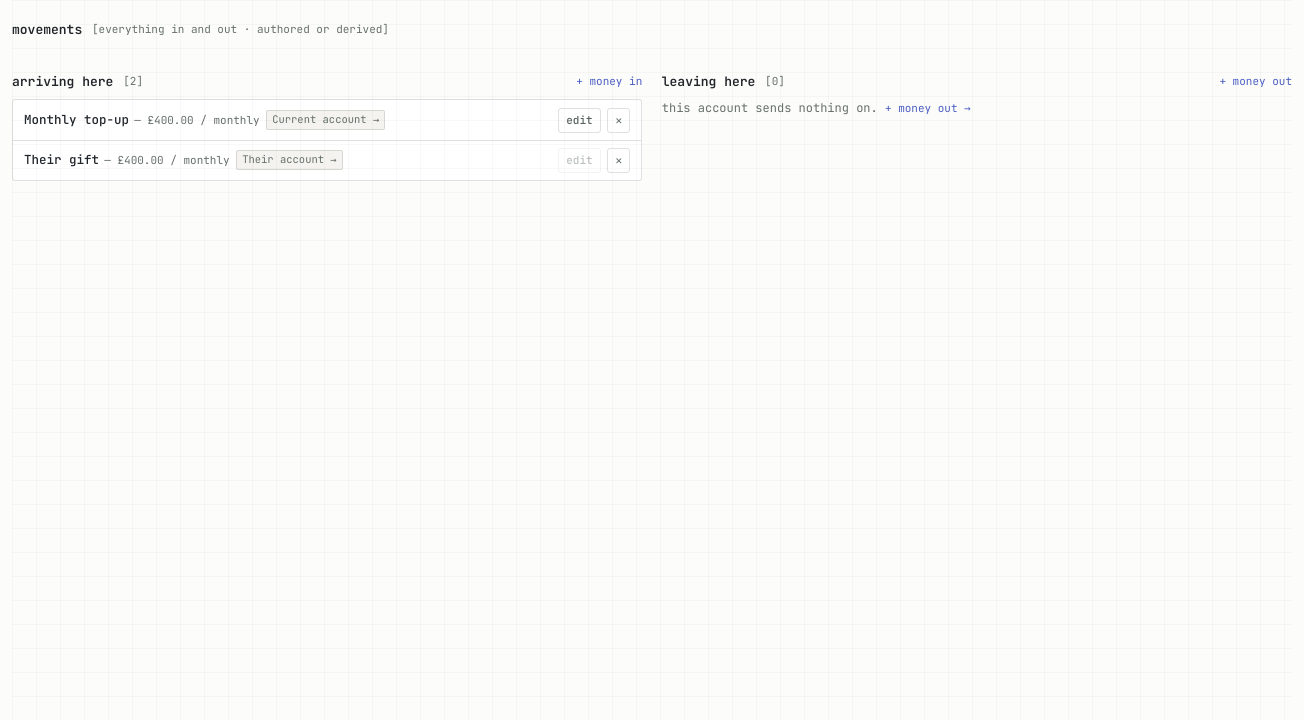
Test case: AccountMovements — the two faces of one row › offers remove on a row it may not edit — the rules differ and so do the buttons
Expected: the button "edit" in the row of "Monthly top-up" is enabled, top-left (558, 108), bottom-right (601, 133)
Expected: the button "edit" in the row of "Their gift" is disabled, top-left (558, 148), bottom-right (601, 173)
Click the button "✕" in the row of "Their gift" at (619, 160), box top-left (607, 148), bottom-right (630, 173)
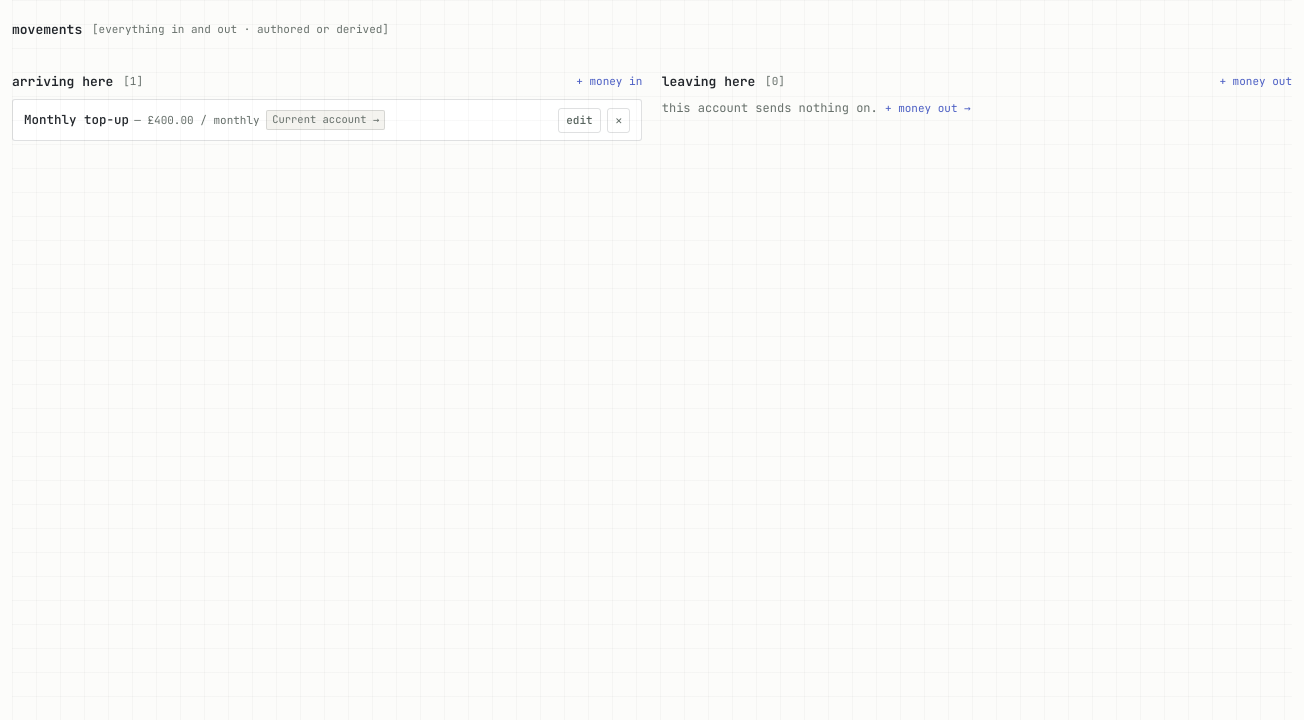
Result: the text "Their gift" is gone
Result: the number of list items is 1 at top-left (13, 100), bottom-right (641, 140)
